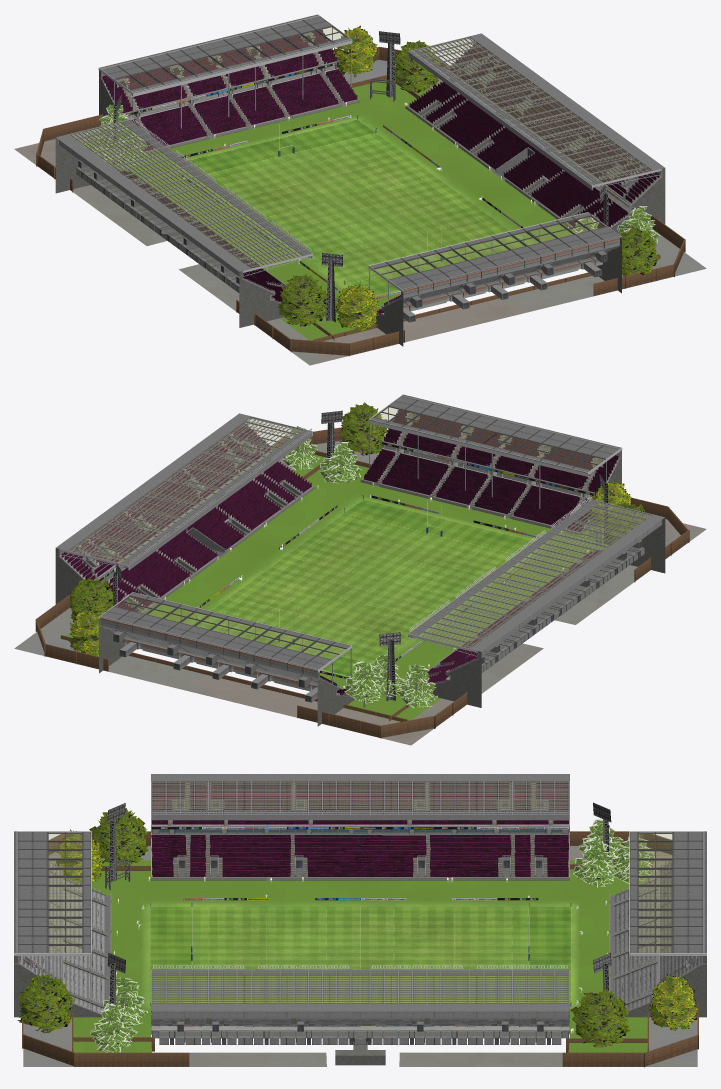
Rendered from stade-club-5.glb.
The picture shows the model from 3 angles, top to bottom: view 1: azimuth 30°, elevation 25°; view 2: azimuth 150°, elevation 25°; view 3: azimuth 270°, elevation 25°; orthographic projection. The views are drawn at different scales.
Parts seen in each view (by area): view 1: PITCH 1, STAND_05_END_MILLENNIUM_MAIN (×2), SIDE_STAND_02_2TIER_TWICKENHAM_MAIN, SIDE_STAND_02_2TIER_TWICKENHAM_MAIN_ENTRANCE, StadiumCrowdSectionWest-FlatCrowdMeshes, StadiumCrowdSectionNorth-FlatCrowdMeshes, Outer_Surround, SIDE_STAND_02_2TIER_TWICKENHAM_GLASS_ROOF, SIDE_STAND_02_2TIER_TWICKENHAM_GLASS_ROOF_ENTRANCE, Inner_Surround_Side_B, STAND_05_END_MILLENNIUM_GLASS_ROOF (×2), Inner_Surround_Side_A (+20 smaller); view 2: PITCH 1, STAND_05_END_MILLENNIUM_MAIN (×2), SIDE_STAND_02_2TIER_TWICKENHAM_MAIN, SIDE_STAND_02_2TIER_TWICKENHAM_MAIN_ENTRANCE, StadiumCrowdSectionWest-FlatCrowdMeshes, StadiumCrowdSectionSouth-FlatCrowdMeshes, Outer_Surround, SIDE_STAND_02_2TIER_TWICKENHAM_GLASS_ROOF, SIDE_STAND_02_2TIER_TWICKENHAM_GLASS_ROOF_ENTRANCE, Inner_Surround_Side_B, STAND_05_END_MILLENNIUM_GLASS_ROOF (×2), Inner_Surround_Side_A (+21 smaller); view 3: PITCH 1, SIDE_STAND_02_2TIER_TWICKENHAM_MAIN_ENTRANCE, StadiumCrowdSectionEast-FlatCrowdMeshes, SIDE_STAND_02_2TIER_TWICKENHAM_MAIN, STAND_05_END_MILLENNIUM_MAIN (×2), STAND_05_END_MILLENNIUM_COLOUR_SEATS (×2), Inner_Surround_Side_A, Outer_Surround, SIDE_STAND_02_2TIER_TWICKENHAM_GLASS_ROOF_ENTRANCE, SIDE_STAND_02_2TIER_TWICKENHAM_GLASS_ROOF, STAND_05_END_MILLENNIUM_GLASS_ROOF (×2), Inner_Surround (+30 smaller).
Part boxes in pixels (x1,y1,x2,y2): PITCH 1: [164, 114, 538, 296]; STAND_05_END_MILLENNIUM_MAIN (×2): [98, 14, 622, 346]; SIDE_STAND_02_2TIER_TWICKENHAM_MAIN: [55, 116, 312, 327]; SIDE_STAND_02_2TIER_TWICKENHAM_MAIN_ENTRANCE: [405, 33, 665, 233]; StadiumCrowdSectionWest-FlatCrowdMeshes: [409, 43, 659, 228]; StadiumCrowdSectionNorth-FlatCrowdMeshes: [102, 30, 357, 150]; Outer_Surround: [14, 60, 706, 365]; SIDE_STAND_02_2TIER_TWICKENHAM_GLASS_ROOF: [69, 123, 302, 267]; SIDE_STAND_02_2TIER_TWICKENHAM_GLASS_ROOF_ENTRANCE: [419, 37, 651, 182]; Inner_Surround_Side_B: [370, 108, 571, 241]; STAND_05_END_MILLENNIUM_GLASS_ROOF (×2): [116, 27, 604, 279]; Inner_Surround_Side_A: [136, 166, 340, 303]; PITCH 1: [182, 494, 556, 680]; STAND_05_END_MILLENNIUM_MAIN (×2): [98, 394, 622, 726]; SIDE_STAND_02_2TIER_TWICKENHAM_MAIN: [408, 496, 665, 707]; SIDE_STAND_02_2TIER_TWICKENHAM_MAIN_ENTRANCE: [55, 413, 315, 613]; StadiumCrowdSectionWest-FlatCrowdMeshes: [61, 423, 311, 611]; StadiumCrowdSectionSouth-FlatCrowdMeshes: [364, 410, 618, 531]; Outer_Surround: [14, 440, 706, 745]; SIDE_STAND_02_2TIER_TWICKENHAM_GLASS_ROOF: [418, 503, 651, 647]; SIDE_STAND_02_2TIER_TWICKENHAM_GLASS_ROOF_ENTRANCE: [69, 417, 301, 562]; Inner_Surround_Side_B: [144, 488, 350, 621]; STAND_05_END_MILLENNIUM_GLASS_ROOF (×2): [116, 407, 604, 659]; Inner_Surround_Side_A: [394, 546, 584, 683]; PITCH 1: [141, 900, 579, 1012]; SIDE_STAND_02_2TIER_TWICKENHAM_MAIN_ENTRANCE: [151, 965, 569, 1065]; StadiumCrowdSectionEast-FlatCrowdMeshes: [151, 783, 568, 877]; SIDE_STAND_02_2TIER_TWICKENHAM_MAIN: [151, 774, 569, 880]; STAND_05_END_MILLENNIUM_MAIN (×2): [14, 831, 706, 1017]; STAND_05_END_MILLENNIUM_COLOUR_SEATS (×2): [19, 862, 701, 1013]; Inner_Surround_Side_A: [151, 880, 569, 900]; Outer_Surround: [23, 846, 697, 1066]; SIDE_STAND_02_2TIER_TWICKENHAM_GLASS_ROOF_ENTRANCE: [152, 976, 568, 1002]; SIDE_STAND_02_2TIER_TWICKENHAM_GLASS_ROOF: [152, 781, 568, 809]; STAND_05_END_MILLENNIUM_GLASS_ROOF (×2): [49, 833, 671, 952]; Inner_Surround: [73, 860, 647, 1052].
Size of the model in its own units: 166 by 27.83 by 206.
Materials: 16 (16 with a texture image).
